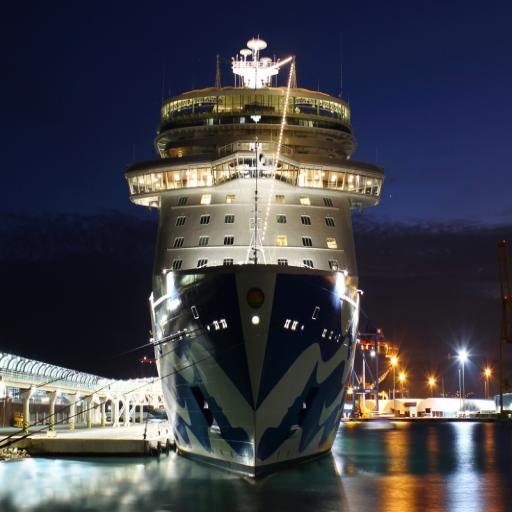cruises: (113, 29, 393, 481)
